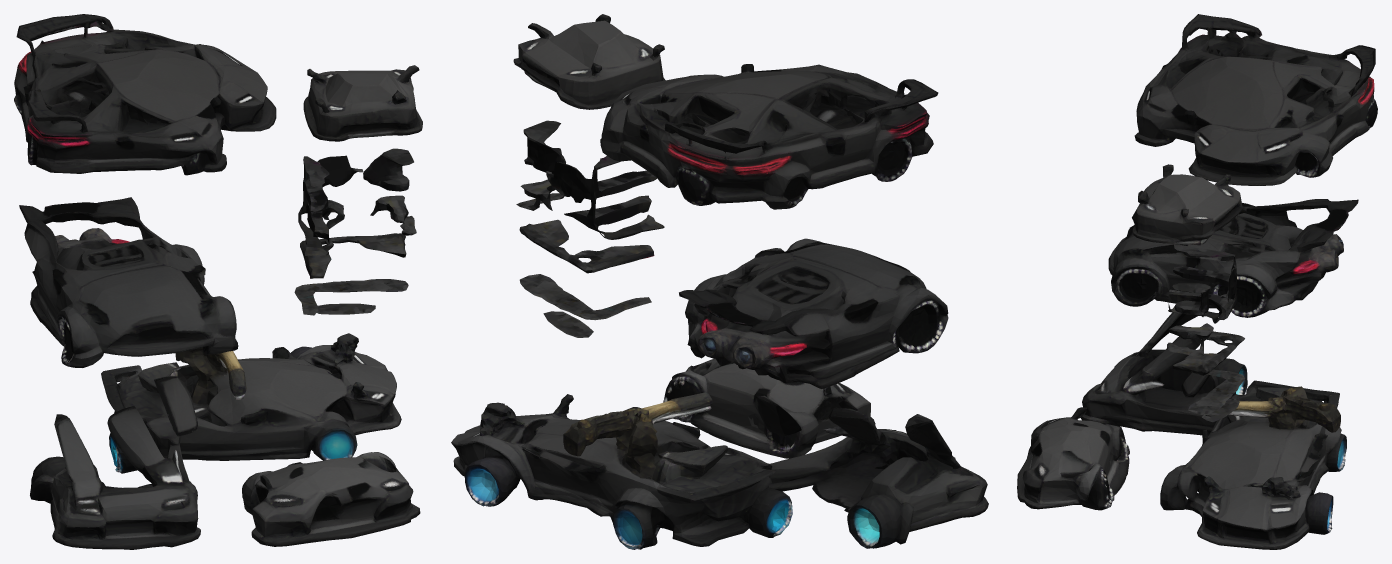
File: sample-car.glb
The picture shows the model from 3 angles, left to right: view 1: azimuth 30°, elevation 25°; view 2: azimuth 150°, elevation 25°; view 3: azimuth 270°, elevation 25°; orthographic projection. The views are drawn at different scales.
Parts seen in each view (by area): view 1: world; view 2: world; view 3: world.
Part boxes in pixels (left/top/right/bottom): world: left=14, top=14, right=422, bottom=549; world: left=451, top=14, right=988, bottom=549; world: left=1017, top=14, right=1377, bottom=549.
Bounding box in the file's own units: 0.9931 × 0.9618 × 0.8442.
Materials: 1 (1 with a texture image).
